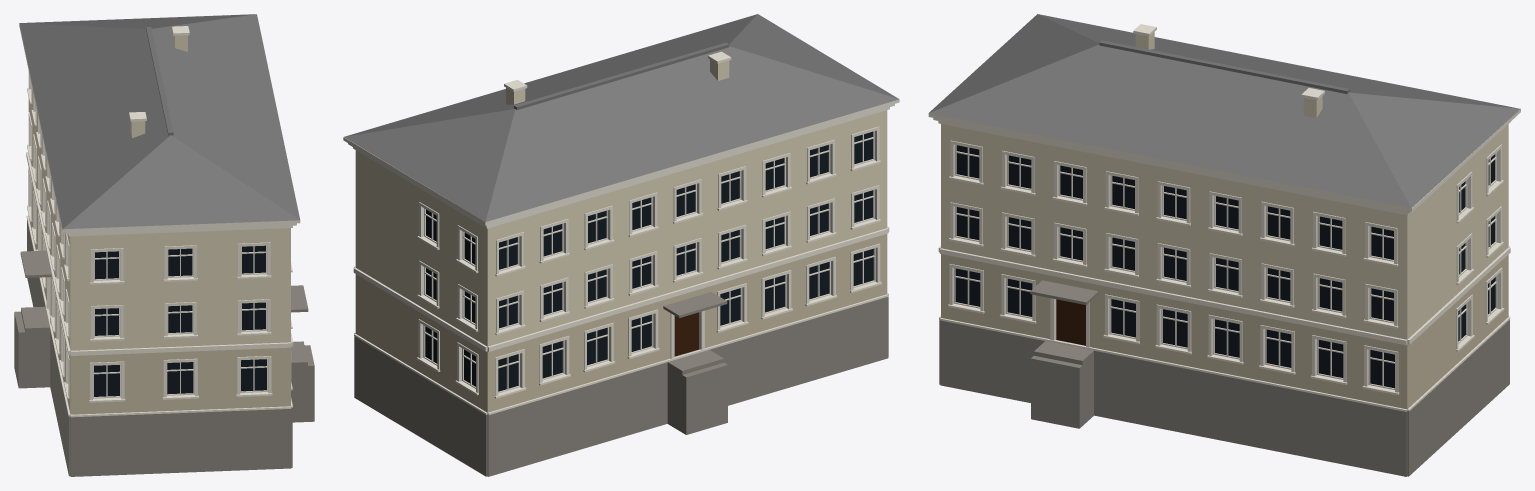
The model's file is voronina11.glb.
3 views of the same model, side by side, from view 1: azimuth 30°, elevation 25°; view 2: azimuth 150°, elevation 25°; view 3: azimuth 270°, elevation 25° (orthographic). The views are drawn at different scales.
Visible parts, largest first — view 1: voronina11_roof, voronina11_stone, voronina11_wall, voronina11_trim, voronina11_wall2, voronina11_glass; view 2: voronina11_roof, voronina11_wall, voronina11_stone, voronina11_trim, voronina11_wall2, voronina11_glass, voronina11_wood; view 3: voronina11_roof, voronina11_wall, voronina11_stone, voronina11_trim, voronina11_wall2, voronina11_glass, voronina11_wood.
Part boxes in pixels (box(x1,y1,x2,y2)): voronina11_roof: box(19, 14, 300, 229); voronina11_stone: box(14, 220, 314, 476); voronina11_wall: box(28, 35, 290, 350); voronina11_trim: box(19, 14, 300, 417); voronina11_wall2: box(28, 185, 290, 414); voronina11_glass: box(94, 245, 266, 396); voronina11_roof: box(344, 14, 898, 221); voronina11_wall: box(355, 59, 887, 346); voronina11_stone: box(354, 292, 888, 476); voronina11_trim: box(343, 51, 899, 415); voronina11_wall2: box(355, 234, 887, 412); voronina11_glass: box(425, 131, 873, 391); voronina11_wood: box(674, 312, 698, 356); voronina11_roof: box(928, 14, 1520, 208); voronina11_wall: box(941, 32, 1508, 339); voronina11_stone: box(939, 280, 1509, 476); voronina11_trim: box(928, 24, 1520, 411); voronina11_wall2: box(941, 254, 1508, 409); voronina11_glass: box(955, 145, 1495, 388); voronina11_wood: box(1056, 299, 1085, 345).
Bounding box in the file's own units: 22.3 × 17.34 × 28.72.
